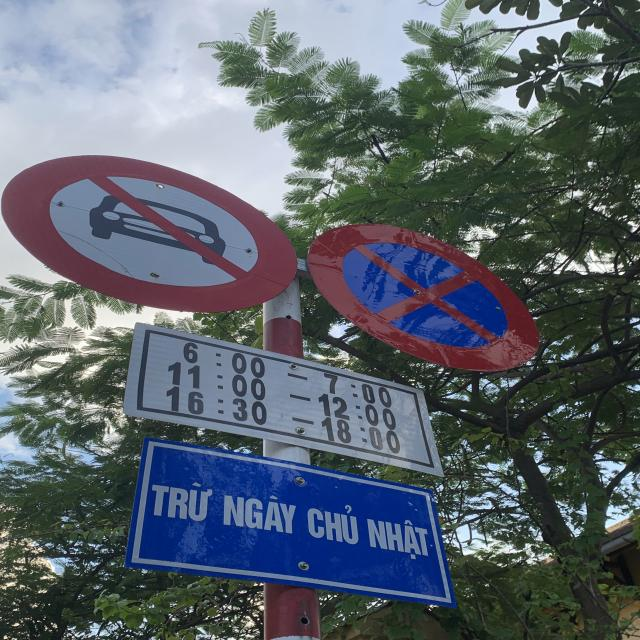Cam_Dung_Va_Dau_Xe: (306, 221, 540, 372)
Cam_O_To: (2, 150, 300, 314)
